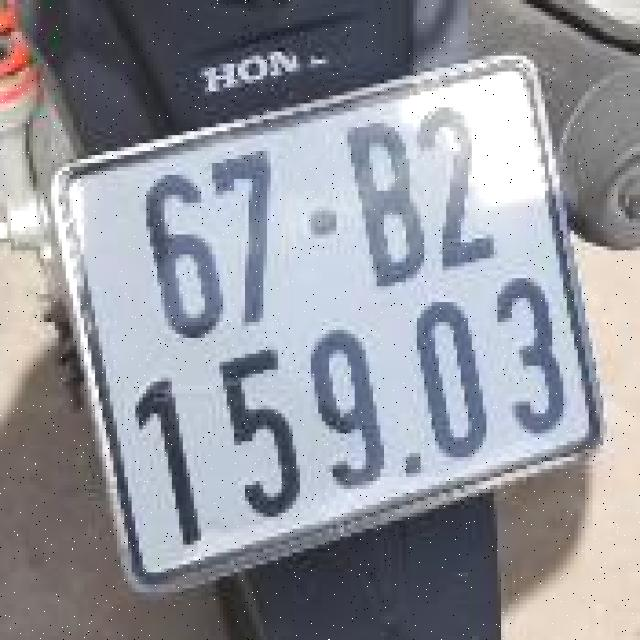0: (403, 291, 505, 469)
1: (115, 363, 218, 561)
2: (405, 95, 510, 280)
3: (485, 267, 577, 445)
5: (205, 336, 314, 531)
6: (127, 159, 240, 350)
7: (199, 143, 302, 332)
9: (296, 317, 398, 503)
B: (333, 110, 437, 304)
